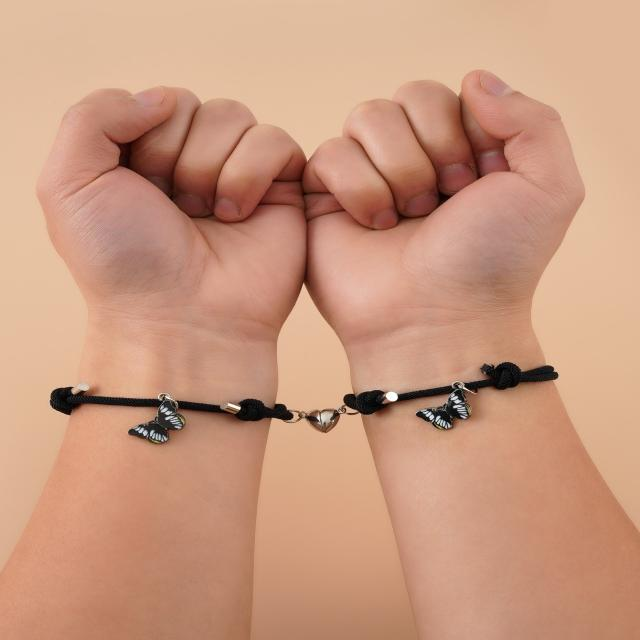Nail: (440, 160, 477, 193), (478, 69, 518, 97), (174, 191, 212, 220), (405, 189, 438, 217), (130, 83, 165, 109), (480, 150, 511, 175), (215, 195, 245, 220), (371, 206, 400, 231), (148, 174, 174, 197)
